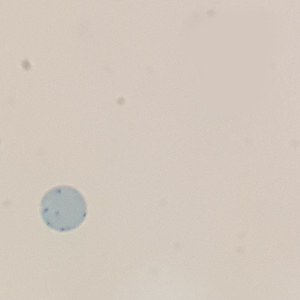punctate reticulocyte: (38, 184, 90, 234)
